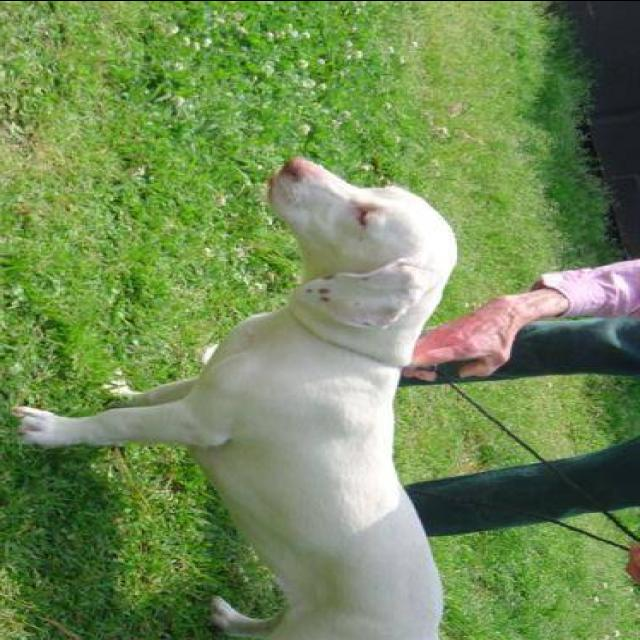dog: (0, 125, 508, 640)
